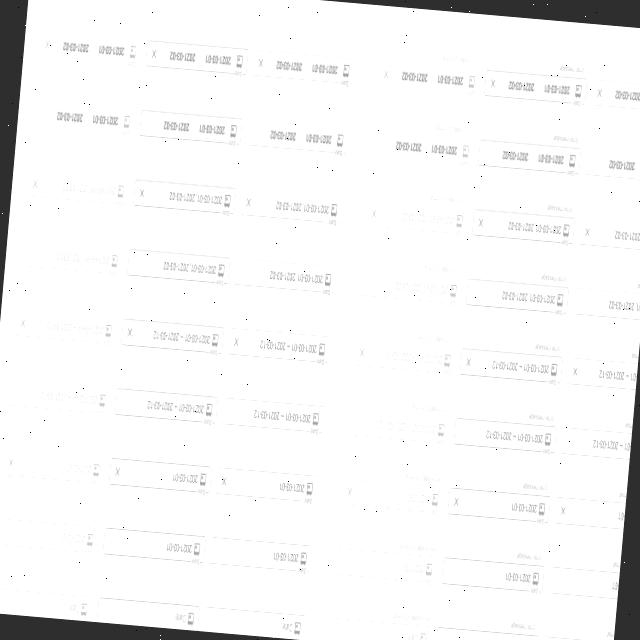VInlineDatepicker: (333, 532, 438, 586), (470, 194, 575, 247), (458, 334, 564, 385), (464, 264, 569, 315), (476, 125, 581, 176), (452, 404, 556, 455), (482, 56, 588, 106), (339, 466, 444, 516), (345, 396, 450, 446), (351, 326, 456, 376), (357, 256, 462, 306), (446, 474, 550, 524), (440, 544, 544, 594), (364, 187, 468, 237), (376, 46, 480, 96), (370, 118, 474, 166), (36, 27, 140, 70), (131, 175, 236, 217), (119, 314, 223, 356), (12, 305, 116, 347), (232, 254, 336, 296), (138, 106, 242, 148), (101, 524, 205, 565), (107, 454, 211, 495), (113, 385, 217, 426), (6, 376, 110, 417), (18, 236, 122, 277), (24, 166, 128, 207), (30, 97, 134, 138), (144, 36, 248, 77), (0, 446, 105, 486), (208, 532, 312, 572), (214, 464, 318, 504), (220, 394, 324, 434), (244, 116, 348, 156), (250, 46, 354, 86), (238, 186, 343, 225), (226, 325, 330, 364), (125, 247, 229, 286), (0, 515, 98, 554), (202, 604, 306, 640), (95, 594, 199, 630), (327, 605, 432, 640), (552, 484, 626, 532), (558, 414, 632, 462), (546, 554, 620, 601), (565, 345, 638, 392), (0, 584, 92, 621), (570, 276, 640, 322), (576, 205, 640, 253), (434, 613, 538, 640), (582, 136, 640, 183), (588, 68, 640, 113), (540, 623, 614, 640)
